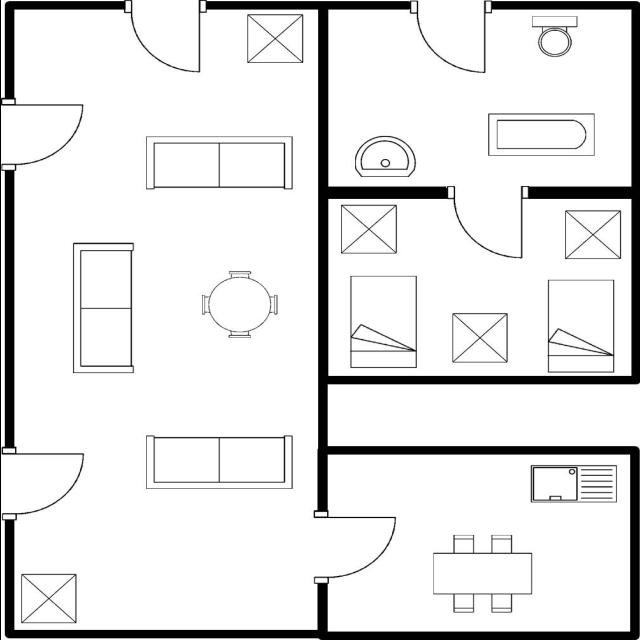bed: (544, 276, 620, 374), (346, 272, 422, 370)
coffee_table: (17, 569, 80, 627), (449, 308, 511, 366), (560, 206, 624, 262), (244, 12, 308, 68), (338, 202, 402, 256)
dining_table: (426, 531, 537, 617)
large_sink: (527, 12, 581, 58)
large_sofa: (68, 238, 138, 378), (142, 132, 298, 190)
round_table: (140, 430, 296, 492), (198, 267, 282, 343)
sink: (526, 458, 621, 508)
small_sink: (350, 132, 420, 180)
tub: (481, 109, 598, 160)
